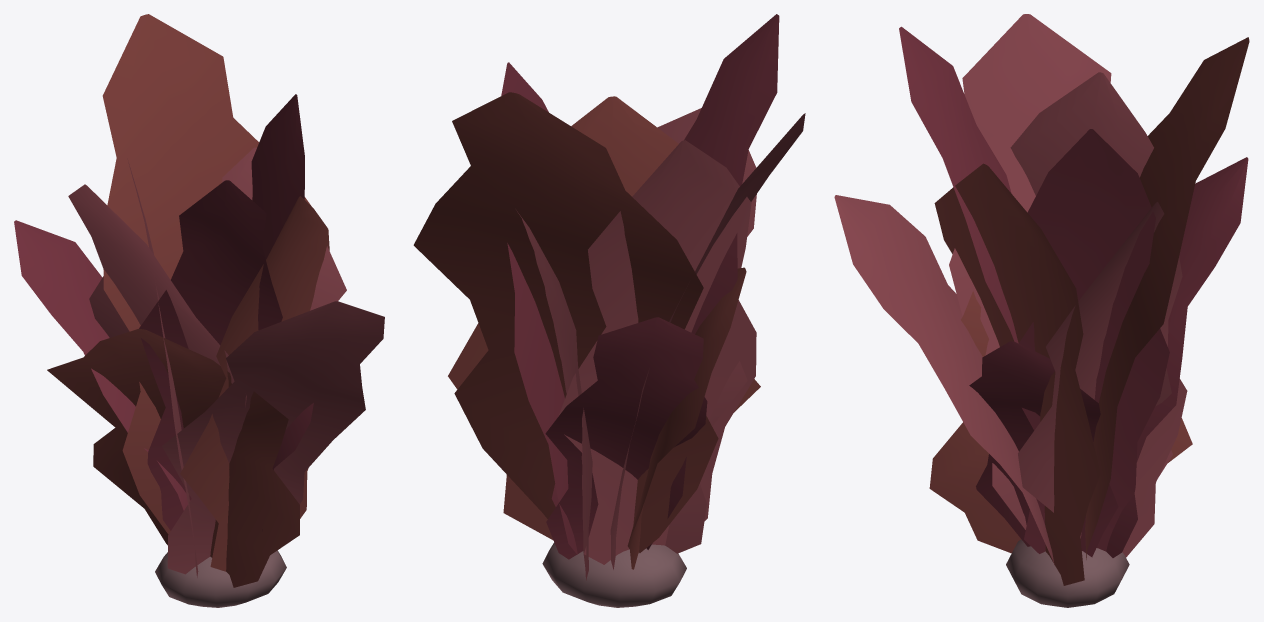
The model's file is tideleaf.glb.
3 views of the same model, side by side, from view 1: azimuth 30°, elevation 25°; view 2: azimuth 150°, elevation 25°; view 3: azimuth 270°, elevation 25° (orthographic). The views are drawn at different scales.
Parts seen in each view (by area): view 1: Tideleaf_fronds, Tideleaf_holdfast; view 2: Tideleaf_fronds, Tideleaf_holdfast; view 3: Tideleaf_fronds, Tideleaf_holdfast.
Part boxes in pixels (x1,y1,x2,y2): Tideleaf_fronds: (14,14,384,587); Tideleaf_holdfast: (155,550,286,607); Tideleaf_fronds: (413,14,805,580); Tideleaf_holdfast: (542,542,686,607); Tideleaf_fronds: (834,14,1249,585); Tideleaf_holdfast: (1006,539,1129,607).
Size of the model in its own units: 0.8828 by 1.5 by 1.01.
